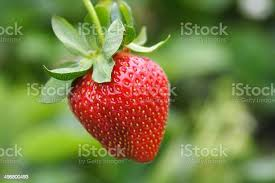ripe: (63, 45, 168, 168)
